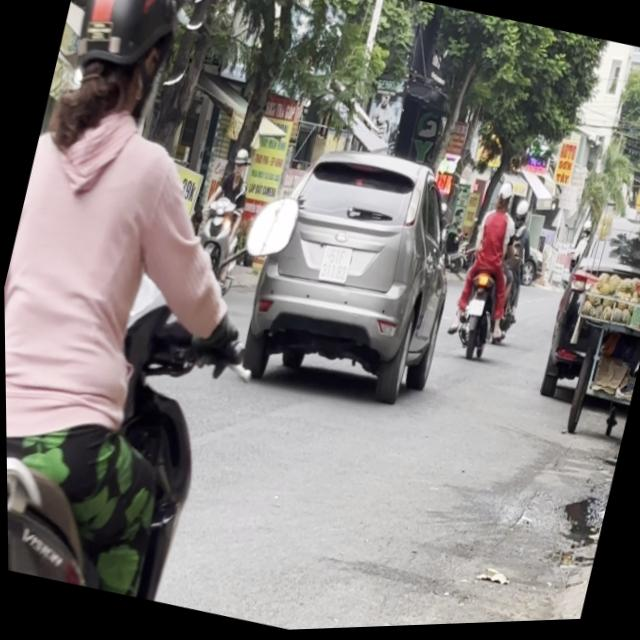helmet: (51, 0, 197, 135)
licenseplate: (0, 0, 333, 610)
